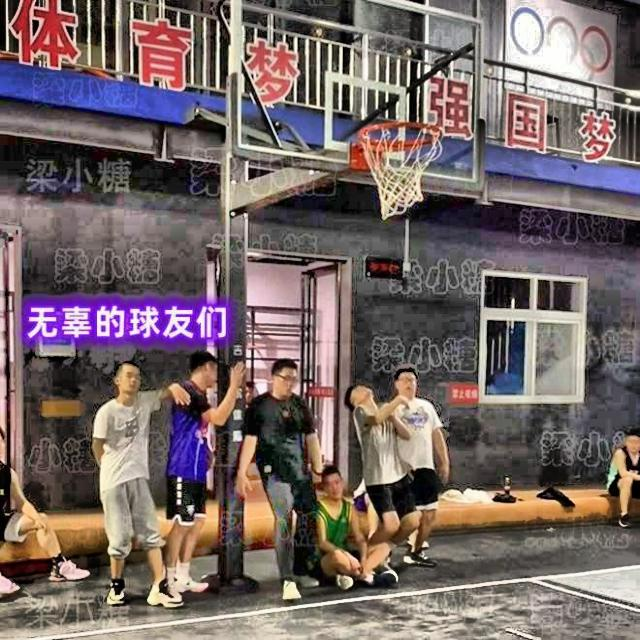rim: (356, 122, 446, 218)
